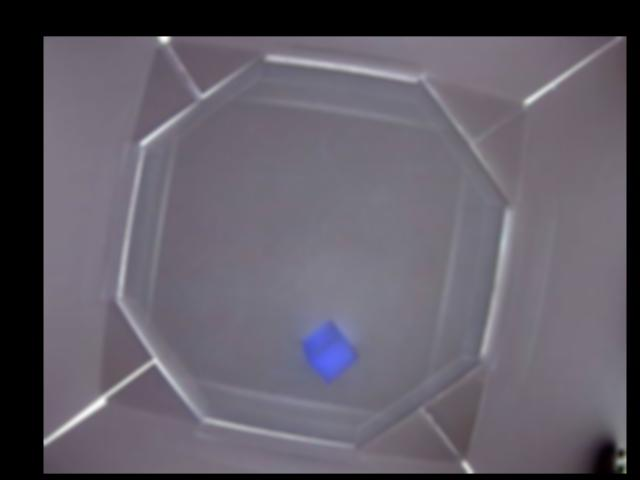Potato: (301, 319, 355, 377)
